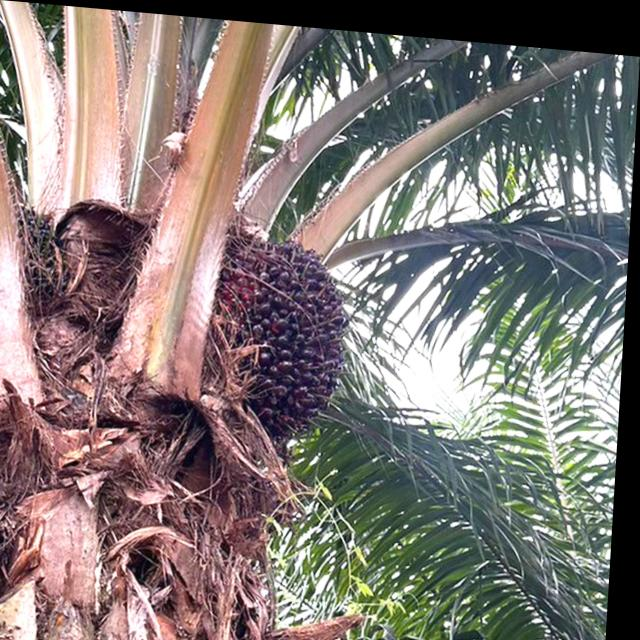ripe: (194, 199, 371, 463)
